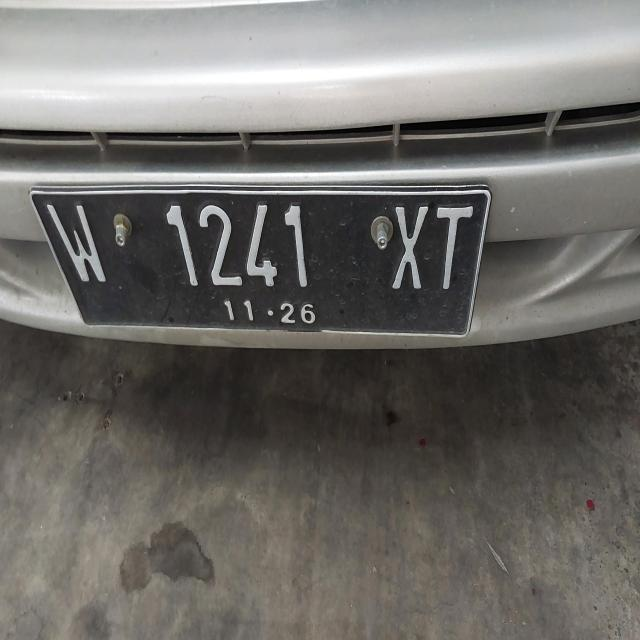1: (156, 200, 204, 302), (278, 199, 320, 296)
2: (196, 198, 246, 294)
4: (242, 196, 280, 294)
T: (433, 198, 473, 298)
W: (42, 193, 112, 305)
X: (391, 198, 435, 303)
